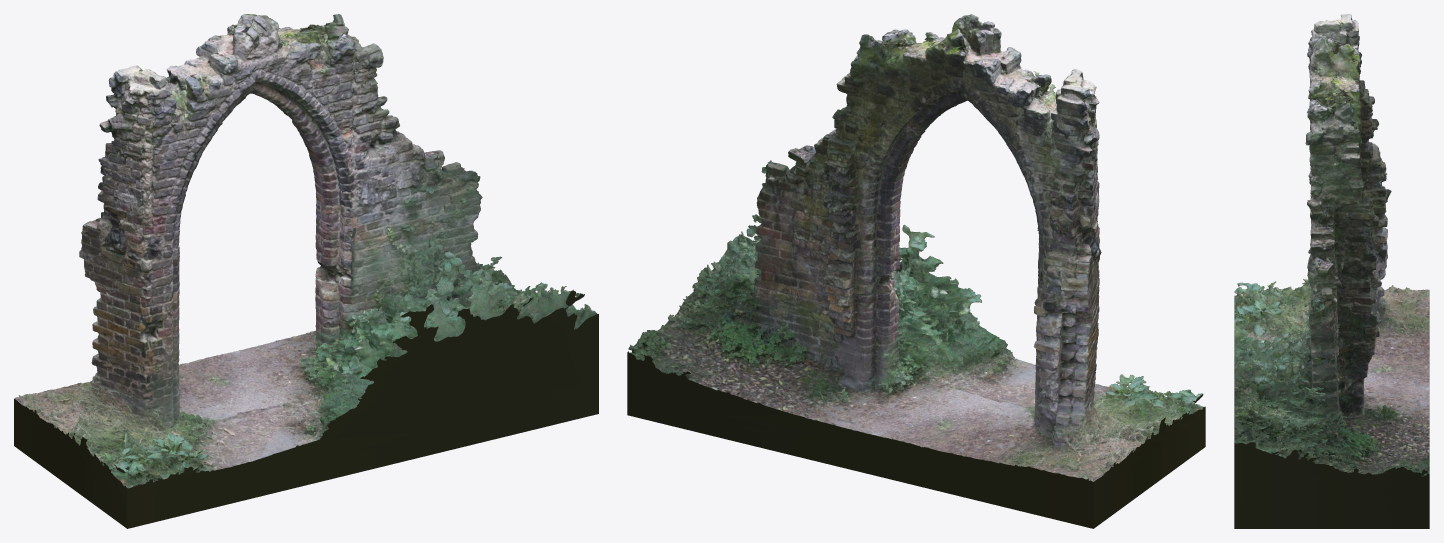
The model's file is gunnersbury_arch.glb.
3 views of the same model, side by side, from view 1: azimuth 30°, elevation 25°; view 2: azimuth 150°, elevation 25°; view 3: azimuth 270°, elevation 25° (orthographic). The views are drawn at different scales.
Visible parts, largest first — view 1: Object_2; view 2: Object_2; view 3: Object_2.
Boxes of the visible parts, box(x1,y1,x2,y2) form: Object_2: box(14, 14, 598, 528); Object_2: box(627, 14, 1205, 528); Object_2: box(1234, 14, 1429, 528).
Size of the model in its own units: 30.91 by 27.01 by 12.86.
Materials: 1 (1 with a texture image).
